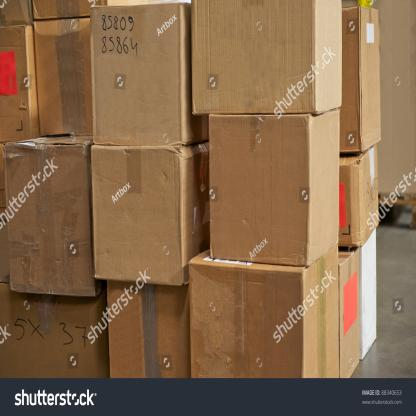box: (211, 115, 310, 265), (193, 0, 316, 113), (5, 143, 94, 298), (192, 256, 304, 378), (91, 145, 185, 288), (92, 3, 185, 144), (0, 292, 99, 379), (107, 280, 189, 379), (35, 17, 95, 132)
